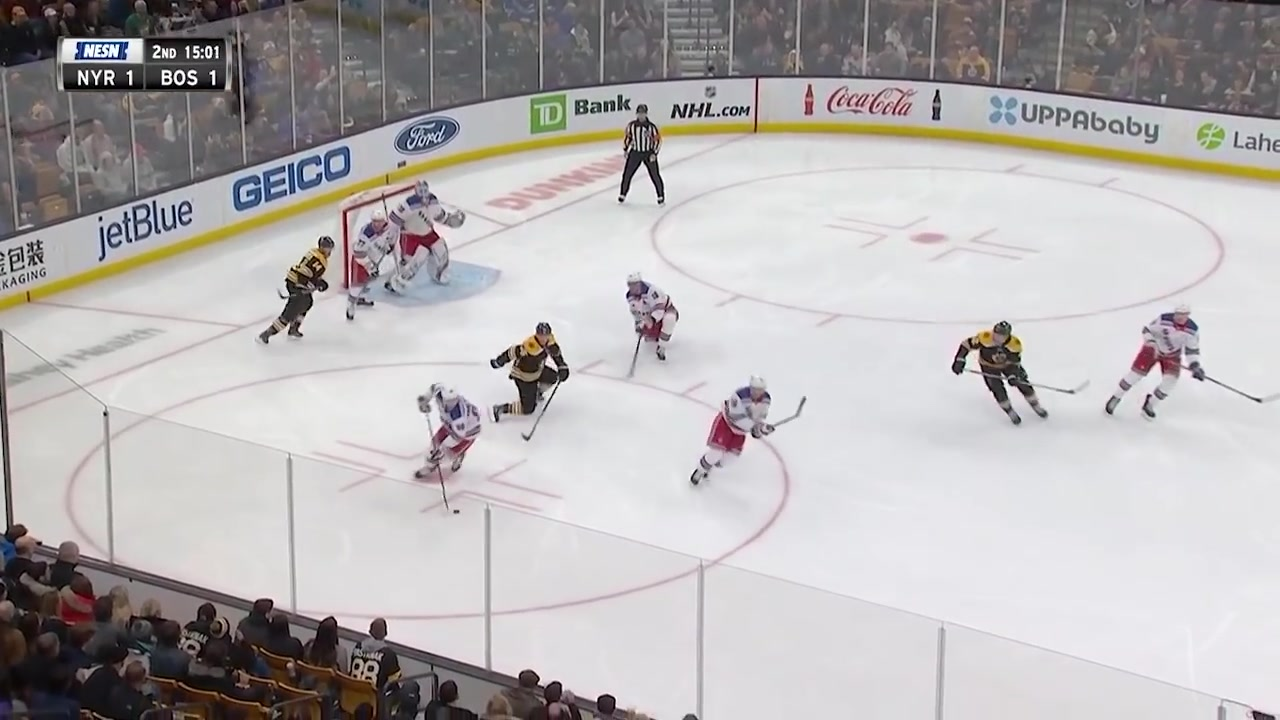Geico: (226, 143, 346, 212)
